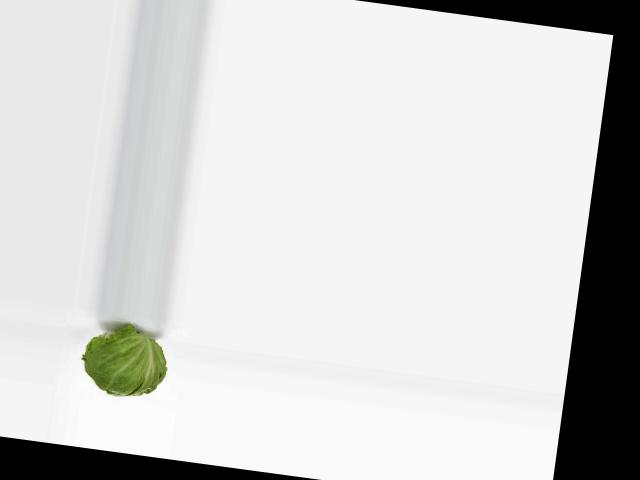lettuce: (75, 327, 176, 403)
